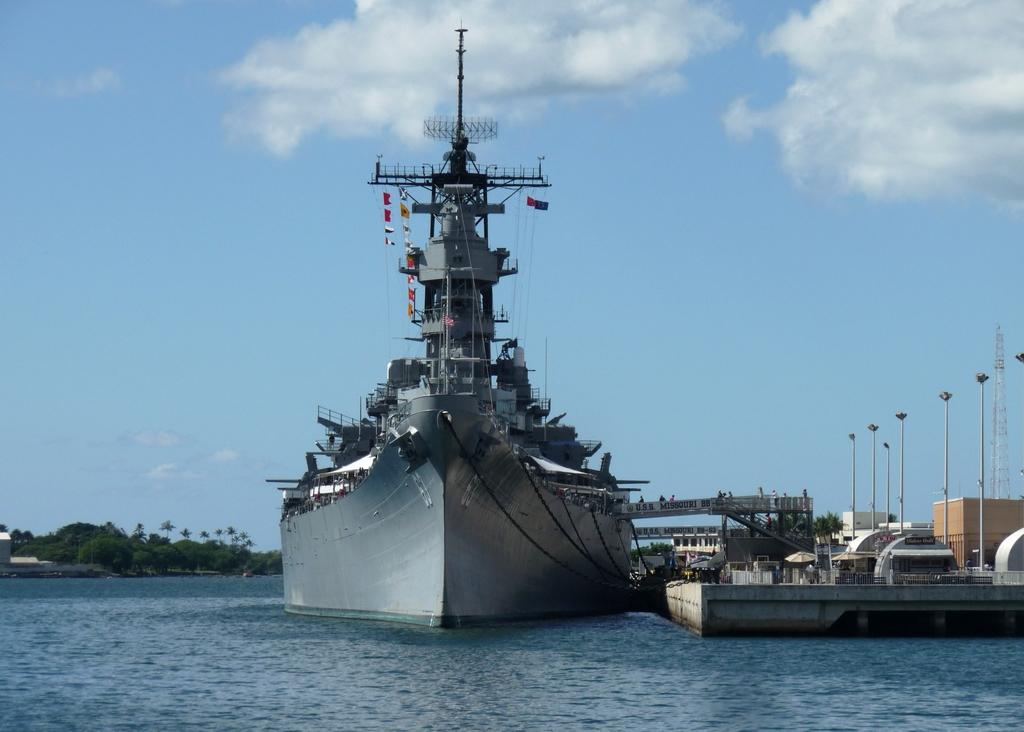Warship: (248, 25, 660, 652)
